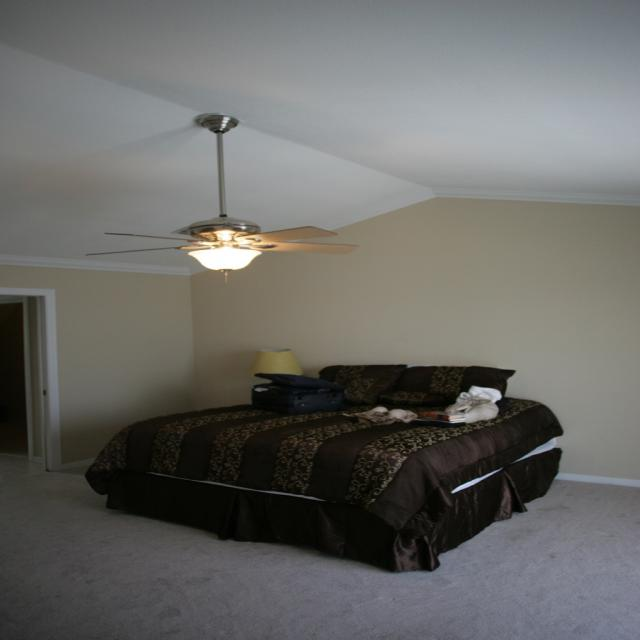Bulb: (76, 136, 377, 293)
